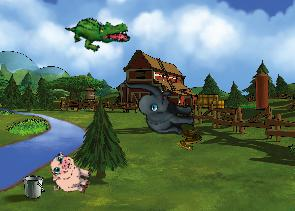crocodile: (64, 6, 132, 59)
elephant: (124, 78, 194, 135)
pig: (45, 150, 95, 198)
